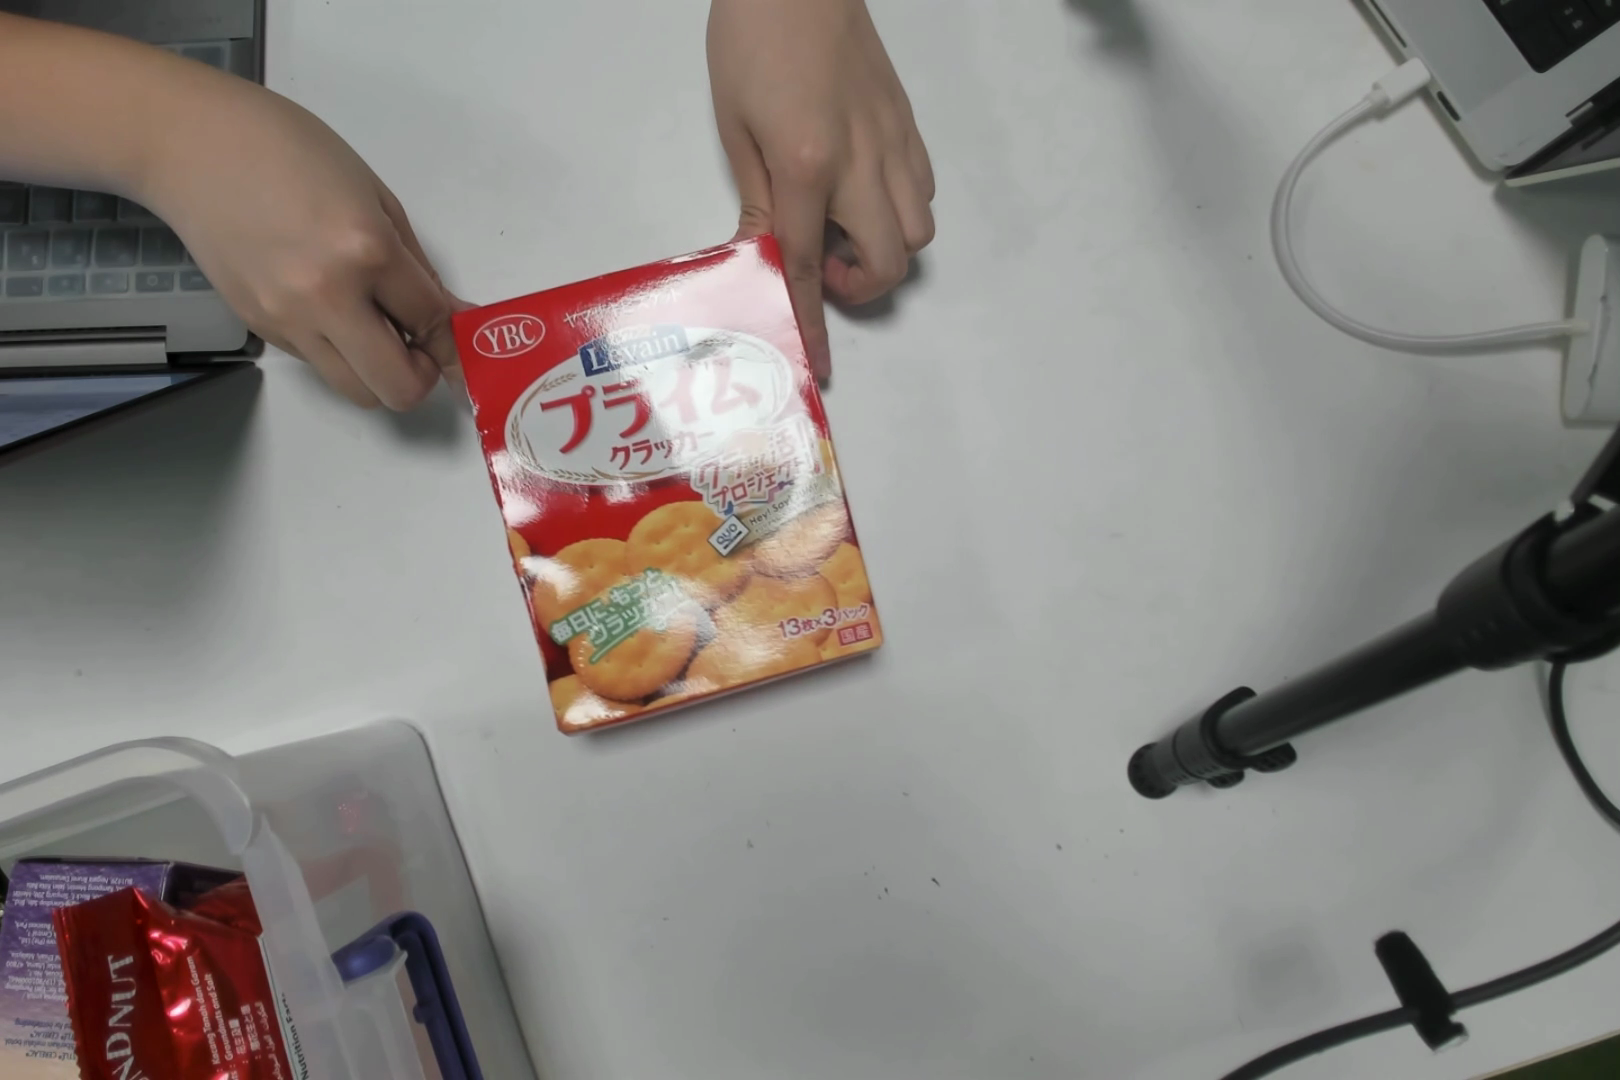c: (479, 298, 859, 724)
